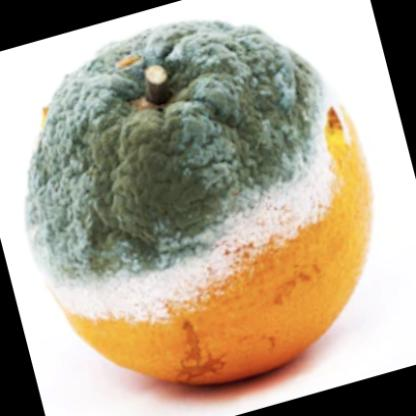rotten: (28, 20, 372, 387)
